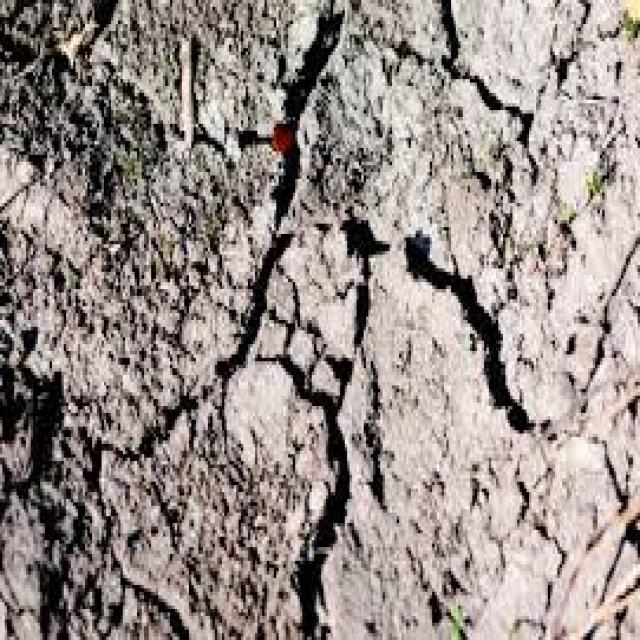Clay Soil: (96, 52, 574, 590)
